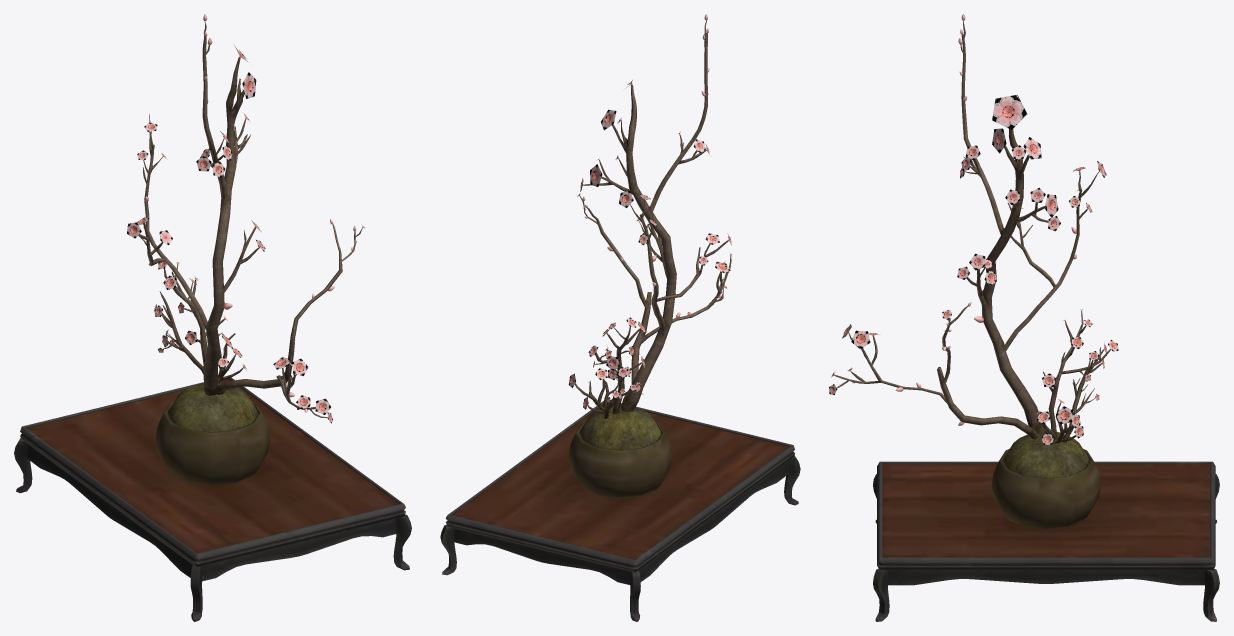
The model's file is SM_FlowerArrangement_99acea.glb.
3 renders of one model, left to right at view 1: azimuth 30°, elevation 25°; view 2: azimuth 150°, elevation 25°; view 3: azimuth 270°, elevation 25°, orthographic. The views are drawn at different scales.
Bounding box in the file's own units: 0.4322 × 1.05 × 0.6936.
Materials: 1 (1 with a texture image).
